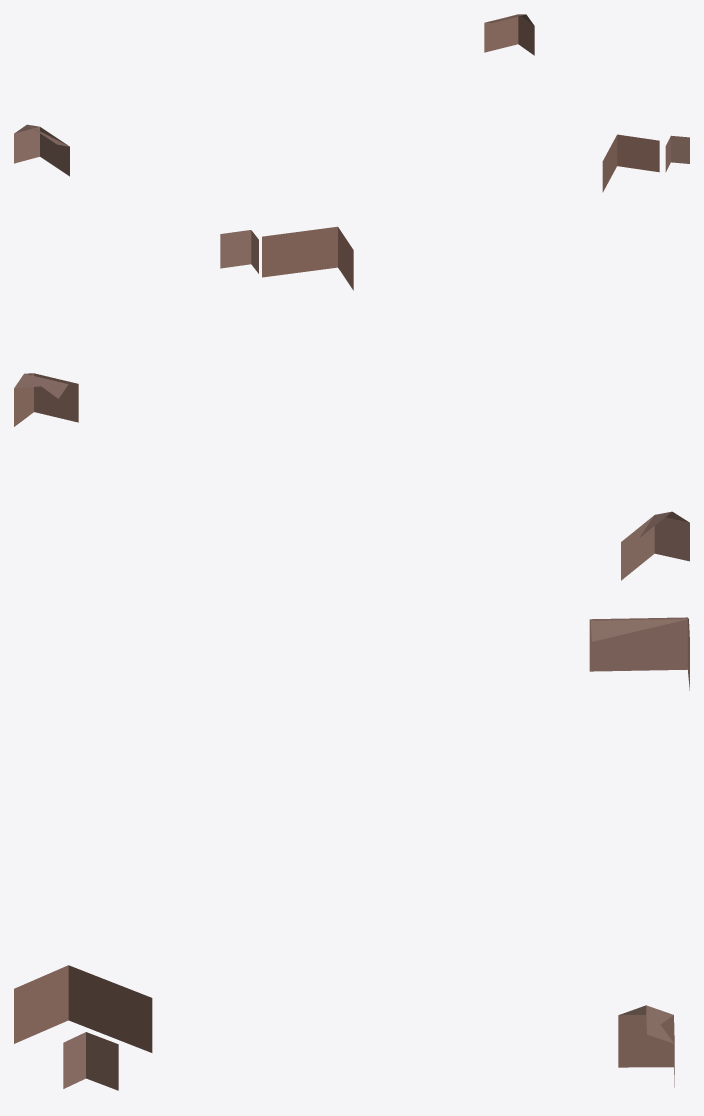
File: c_1639_17831_buildings_residential.glb
The picture shows the model from 3 angles, top to bottom: view 1: azimuth 30°, elevation 25°; view 2: azimuth 150°, elevation 25°; view 3: azimuth 270°, elevation 25°; orthographic projection. The views are drawn at different scales.
Parts seen in each view (by area): view 1: geometry_0; view 2: geometry_0; view 3: geometry_0.
Boxes of the visible parts, bbox=[...] form: geometry_0: bbox=[14, 14, 689, 192]; geometry_0: bbox=[14, 226, 689, 580]; geometry_0: bbox=[14, 617, 689, 1090].
Bounding box in the file's own units: 159 × 10.68 × 105.
